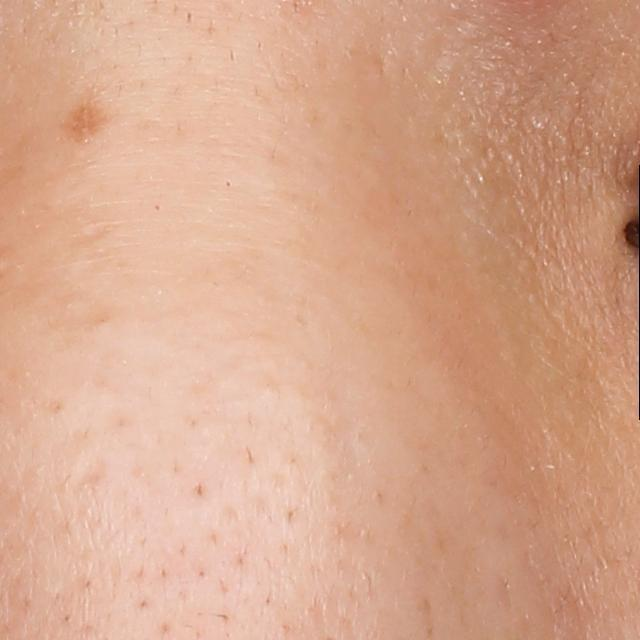atrophic_scar: (74, 452, 105, 497)
melasma: (53, 93, 114, 144)
